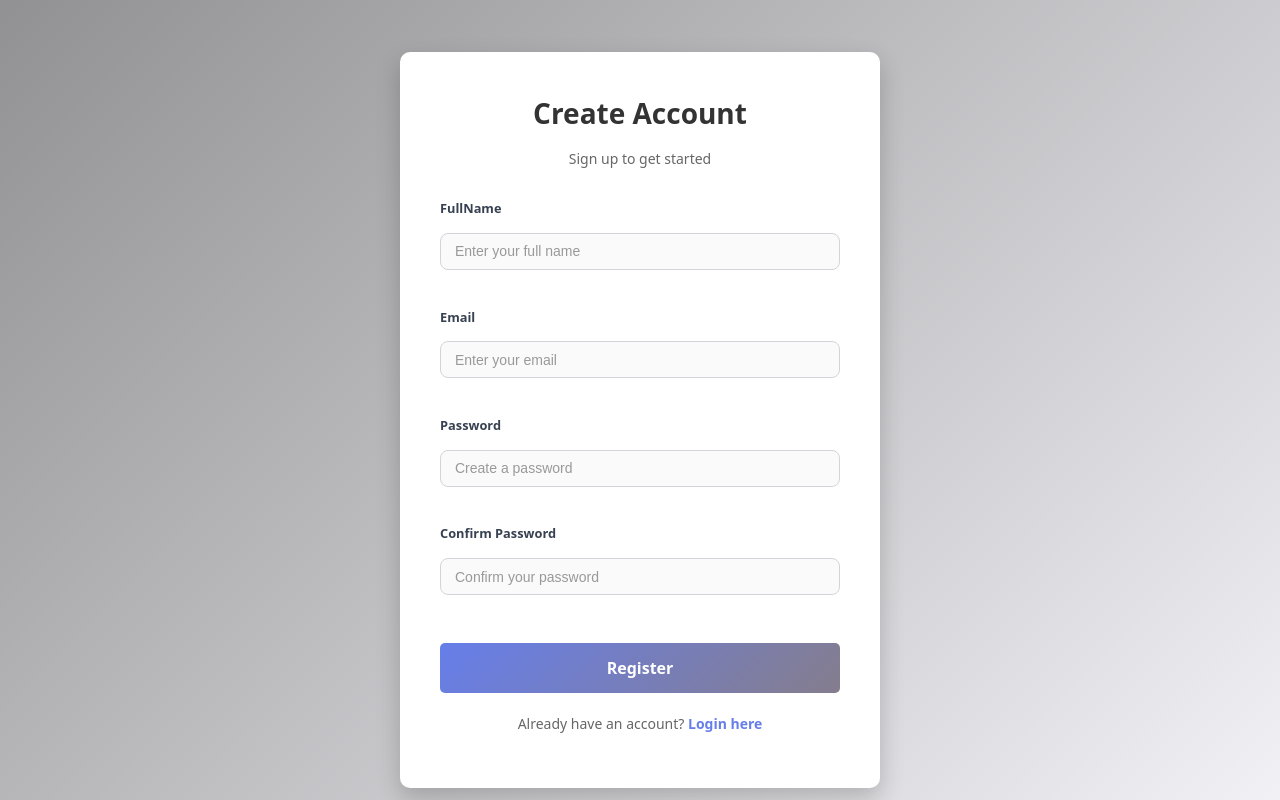
Test: Register — validation › shows error when password is shorter than 6 characters
In the field labelled "FullName": (640, 252) [440, 233, 840, 270], type "John Doe"
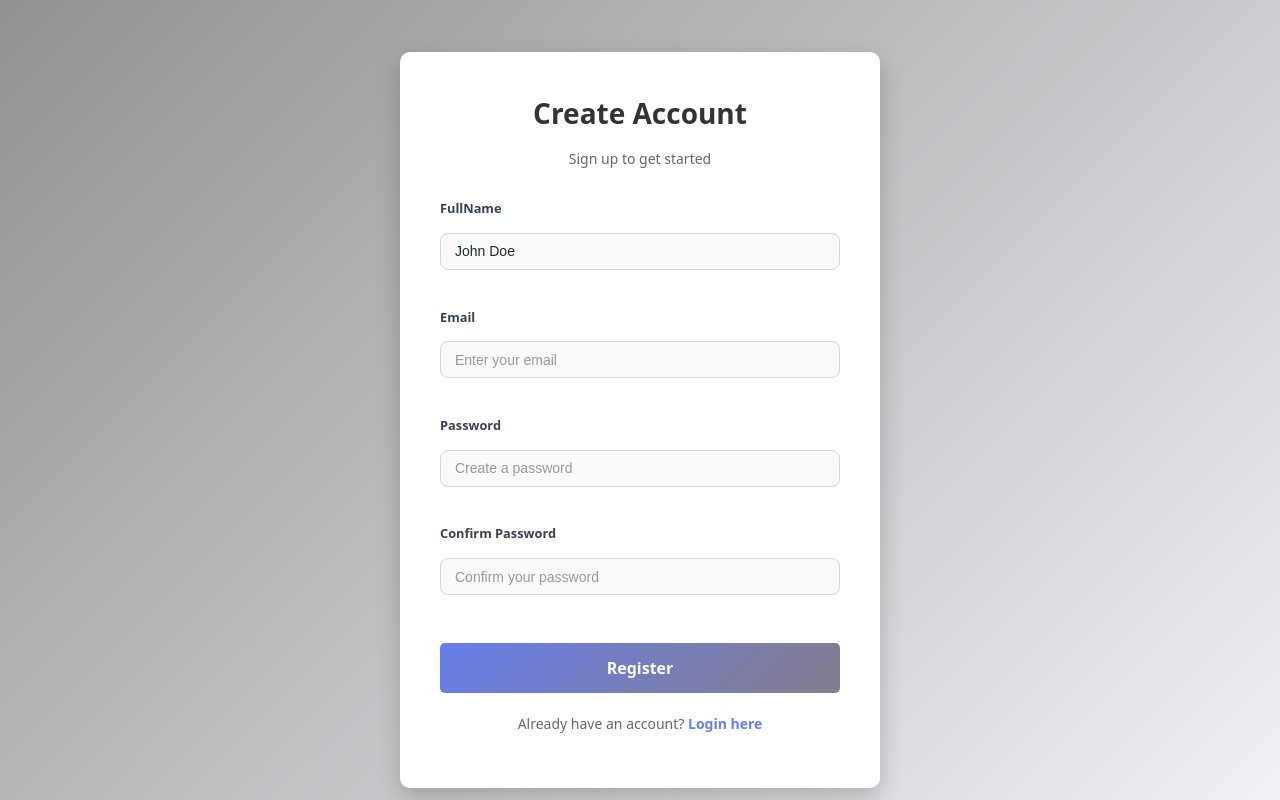
In the field labelled "Email": (640, 360) [440, 341, 840, 378], type "john@test.com"
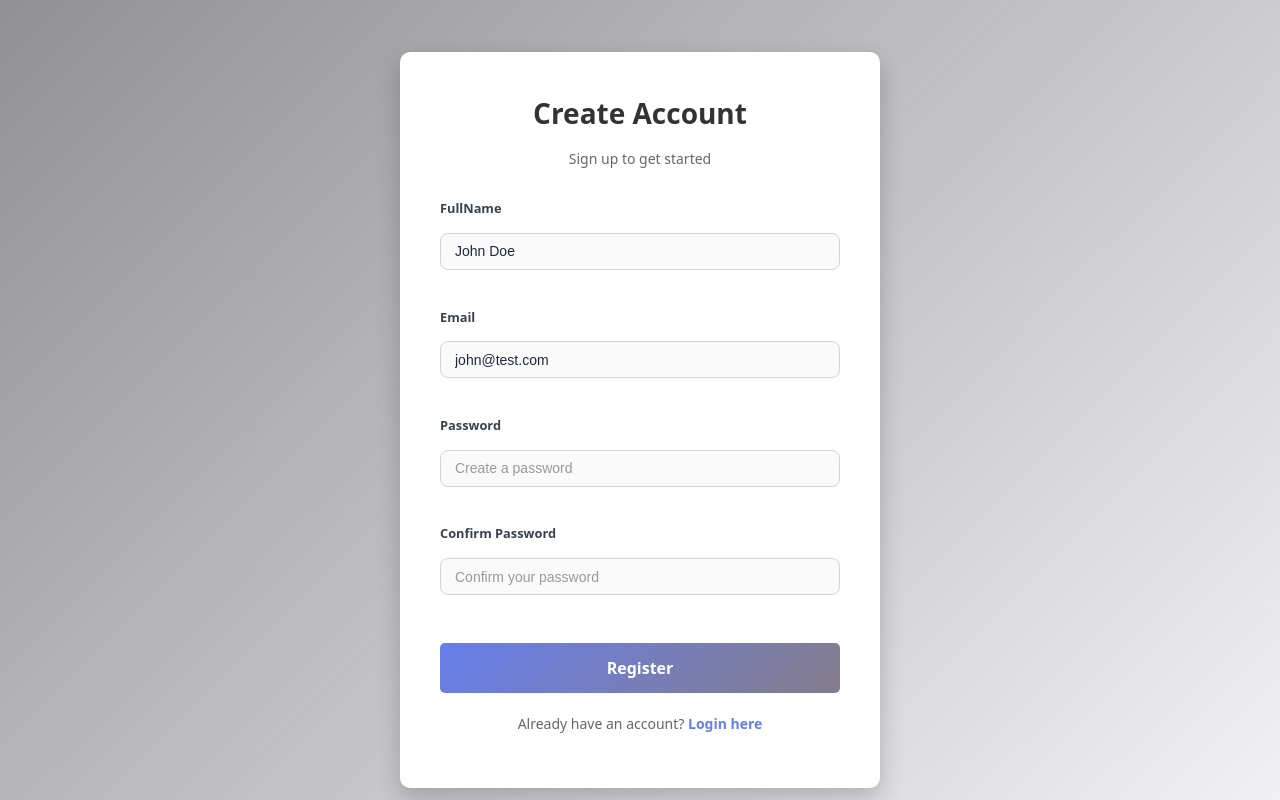
In the password field labelled "Password": (640, 468) [440, 450, 840, 487], type "abc"
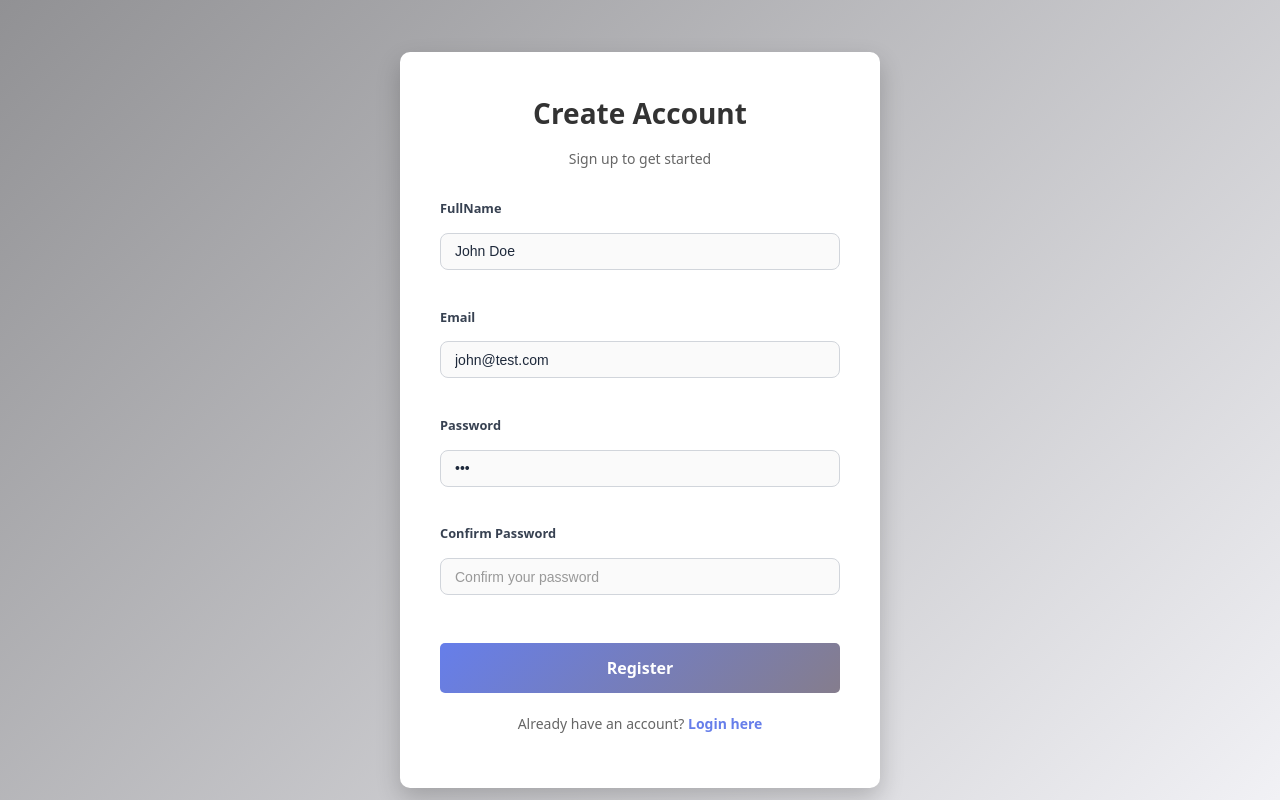
In the password field labelled "Confirm Password": (640, 576) [440, 558, 840, 595], type "abc"
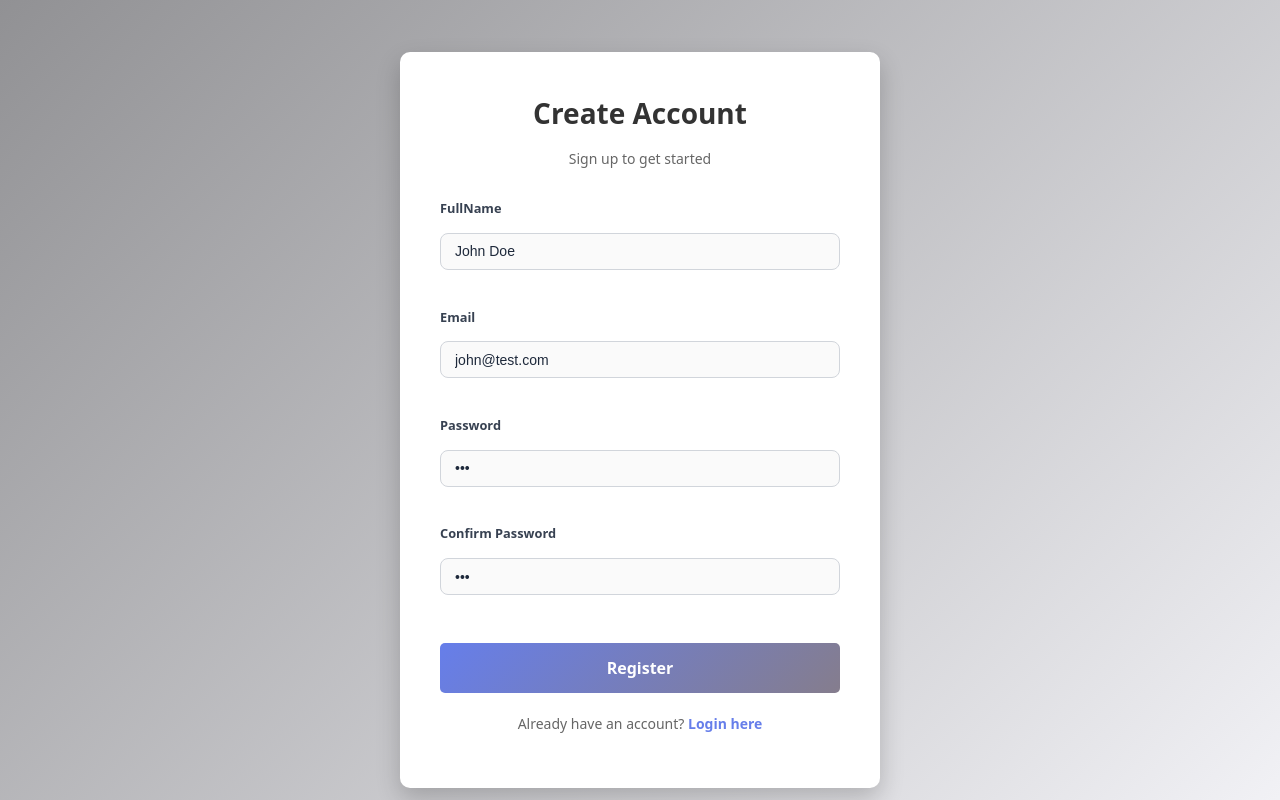
Click the button "Register": (640, 668) [440, 643, 840, 693]
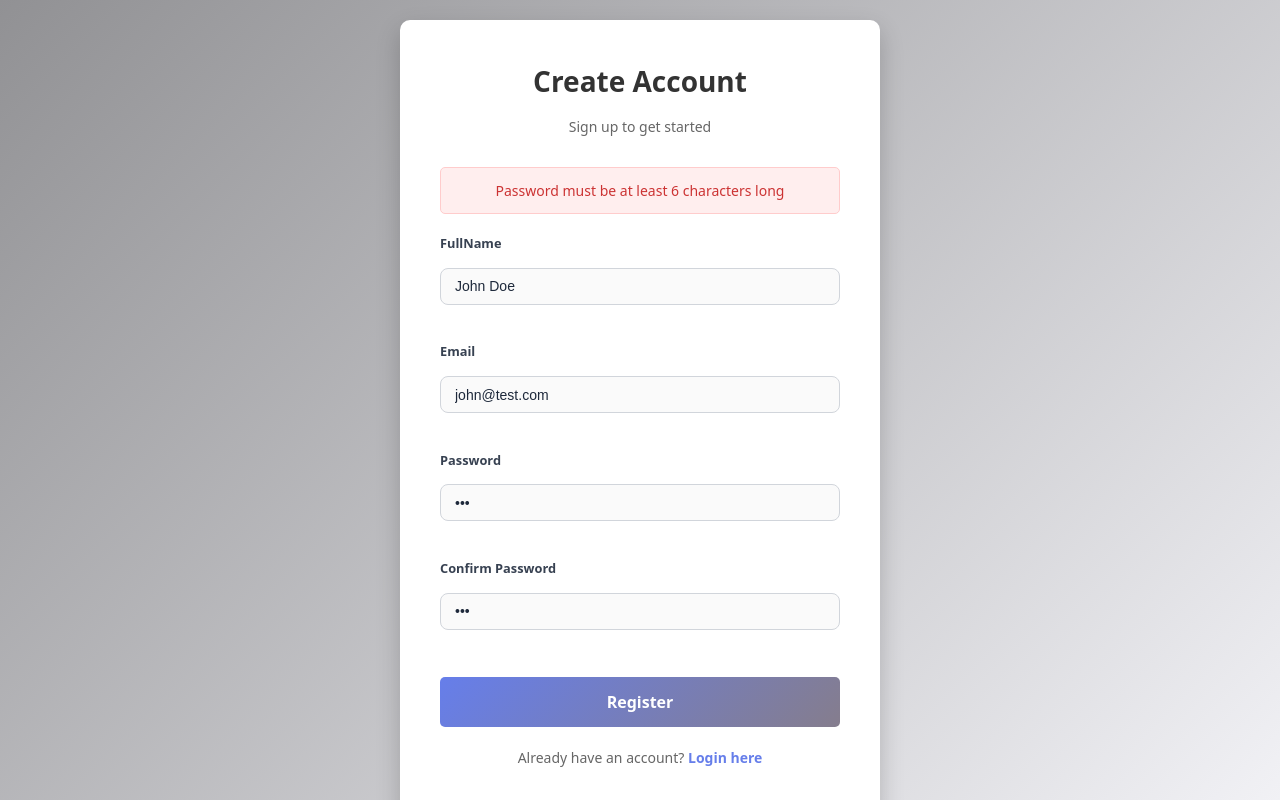
Check: the text "Password must be at least 6 characters long" is shown, box [440, 167, 840, 214]
